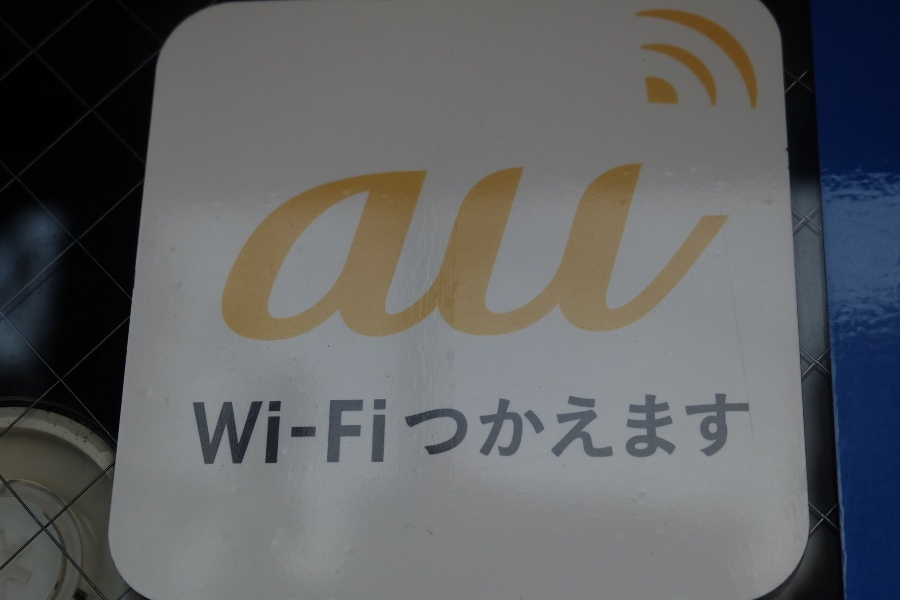text: (257, 154, 272, 347), (273, 154, 288, 347), (289, 154, 304, 347), (305, 154, 320, 347), (321, 154, 336, 347), (337, 154, 352, 347), (353, 154, 368, 347), (369, 154, 384, 347), (385, 154, 400, 347), (401, 154, 416, 347), (417, 154, 432, 347), (433, 154, 448, 347), (449, 154, 464, 347), (465, 154, 480, 347), (481, 154, 496, 347), (497, 154, 512, 347), (513, 154, 528, 347), (529, 154, 544, 347), (545, 154, 560, 347), (561, 154, 576, 347), (577, 154, 592, 347), (593, 154, 608, 347), (609, 154, 624, 347), (625, 154, 640, 347), (641, 154, 656, 347), (657, 154, 672, 347), (673, 154, 688, 347), (689, 154, 704, 347), (705, 154, 720, 347), (721, 154, 736, 347), (737, 154, 752, 347), (248, 154, 256, 347), (193, 388, 208, 469), (209, 388, 224, 469), (225, 388, 240, 469), (241, 388, 256, 469), (257, 388, 272, 469), (273, 388, 288, 469), (289, 388, 304, 469), (305, 388, 320, 469), (321, 388, 336, 469), (337, 388, 352, 469), (353, 388, 368, 469), (369, 388, 384, 469), (385, 388, 400, 469), (401, 388, 416, 469), (417, 388, 432, 469), (433, 388, 448, 469), (449, 388, 464, 469), (465, 388, 480, 469), (481, 388, 496, 469), (497, 388, 512, 469), (513, 388, 528, 469), (529, 388, 544, 469), (545, 388, 560, 469), (561, 388, 576, 469), (577, 388, 592, 469), (593, 388, 608, 469), (609, 388, 624, 469), (625, 388, 640, 469), (641, 388, 656, 469), (657, 388, 672, 469), (673, 388, 688, 469), (689, 388, 704, 469), (705, 388, 720, 469), (721, 388, 736, 469), (737, 388, 751, 469), (191, 388, 192, 469)
